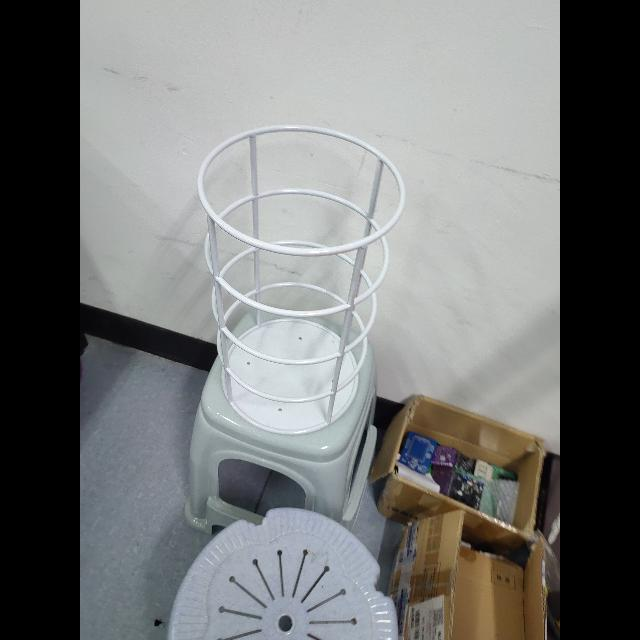S: (196, 121, 404, 441)
